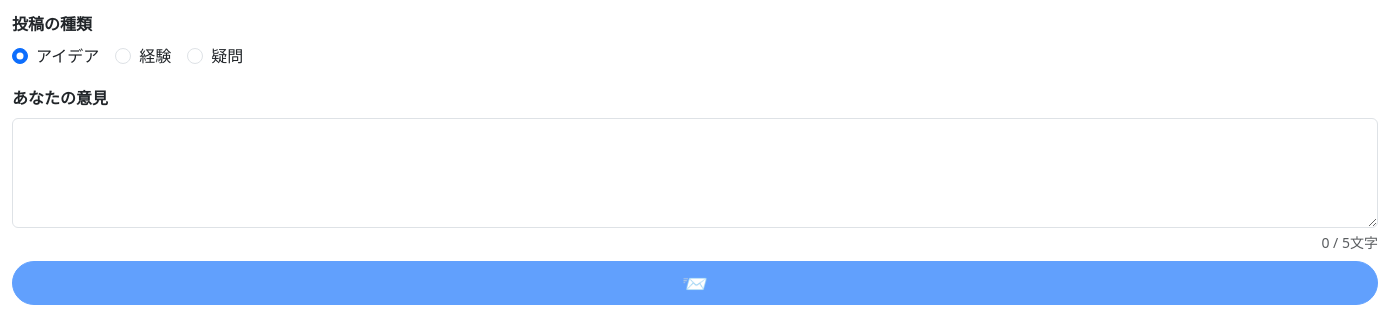
Scenario: 投稿フォーム › 文字数を表示し、上限を超えると押せない
In the text box labelled "あなたの意見": (695, 173) [12,118,1378,228], type "12345"
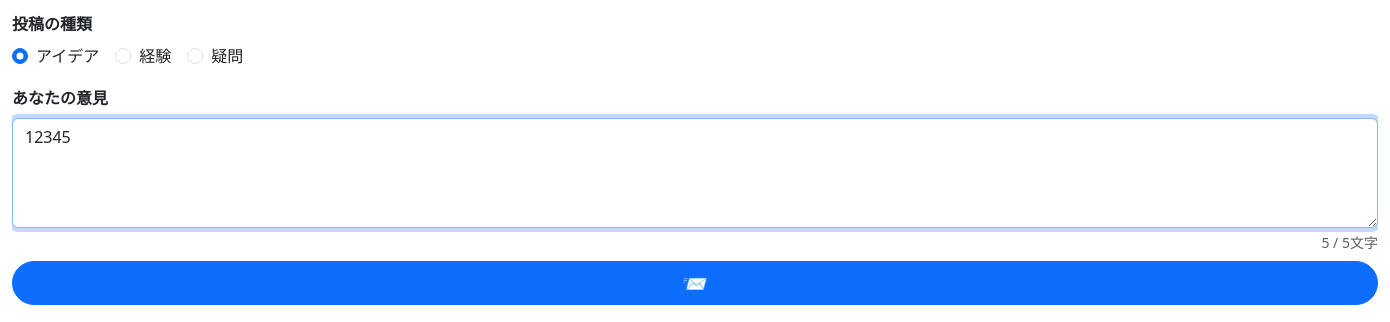
Check: the text "5 / 5文字" is shown, box [1322,233,1378,252]
Check: the button "📨" is enabled, box [12,261,1378,305]
In the text box labelled "あなたの意見": (695, 173) [12,118,1378,228], type "6"
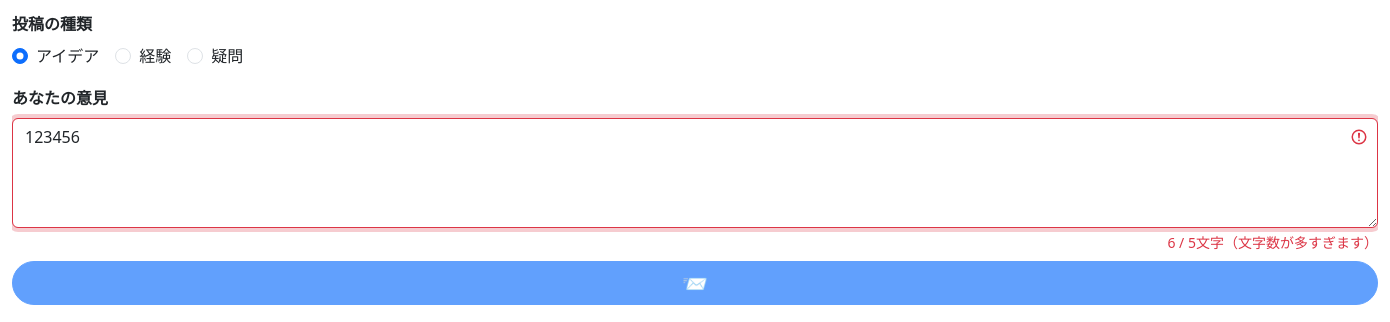
Check: the text "6 / 5文字（文字数が多すぎます）" is shown, box [1168,233,1378,252]
Check: the button "📨" is disabled, box [12,261,1378,305]
